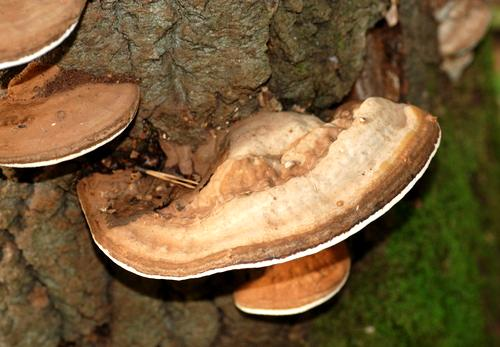Ganoderma - Fruit Body: (75, 163, 449, 319), (0, 75, 144, 175), (0, 0, 88, 75)
